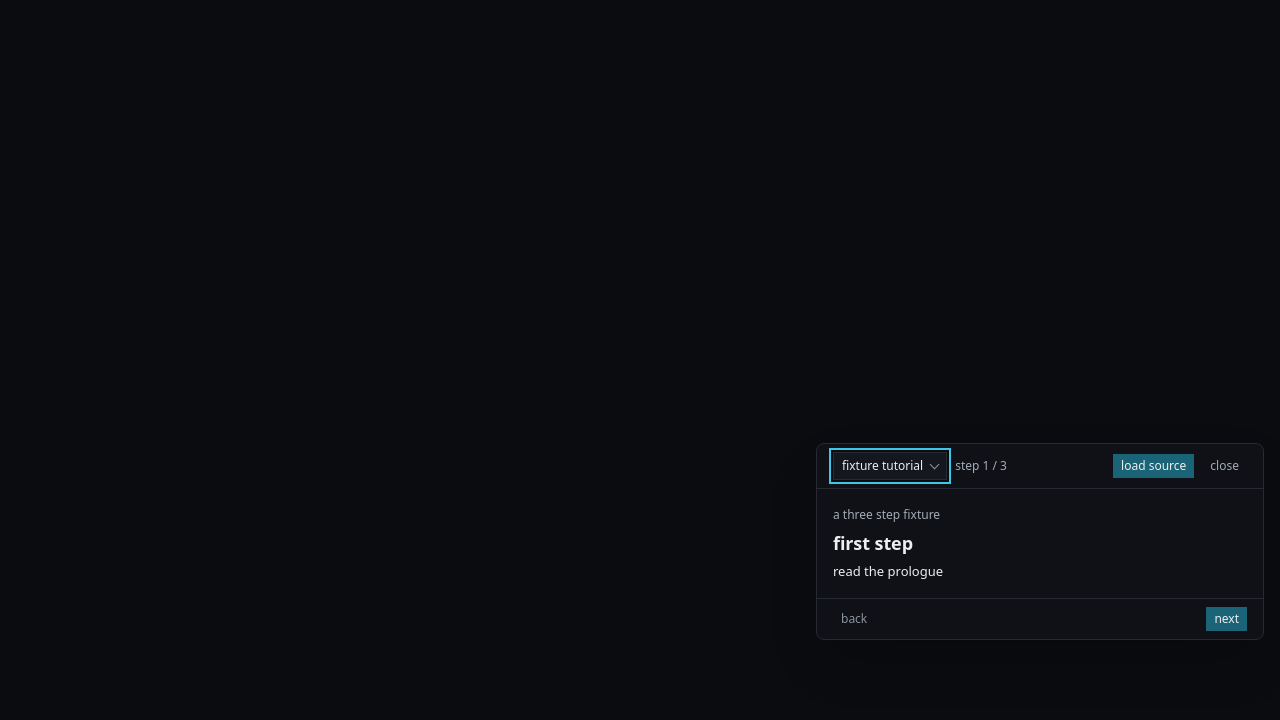
Test: TutorialRunner load source › shows an http failure inline and loads nothing
What coordinates should you click on to do the following:
click the button "load source"
I would click on:
 (1154, 466)
Its box is top-left (1113, 454), bottom-right (1194, 478).
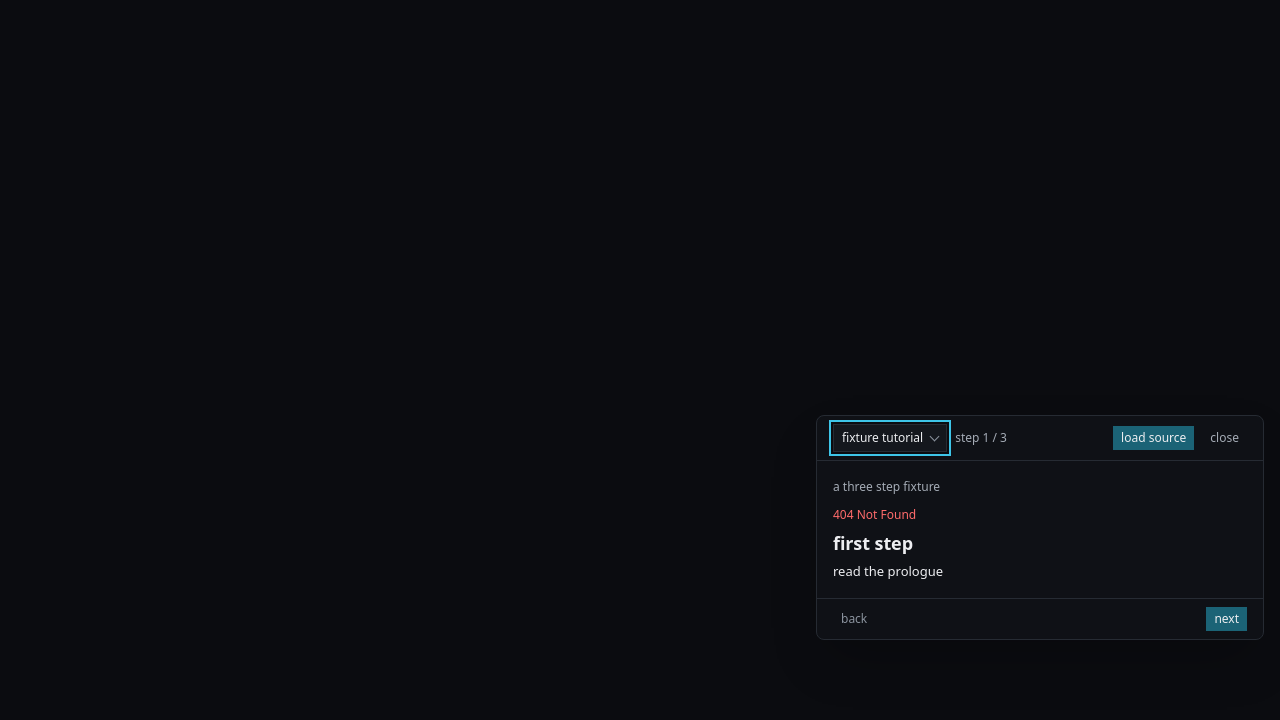
Result: the message reads "404 Not Found" at top-left (833, 506), bottom-right (916, 523)
